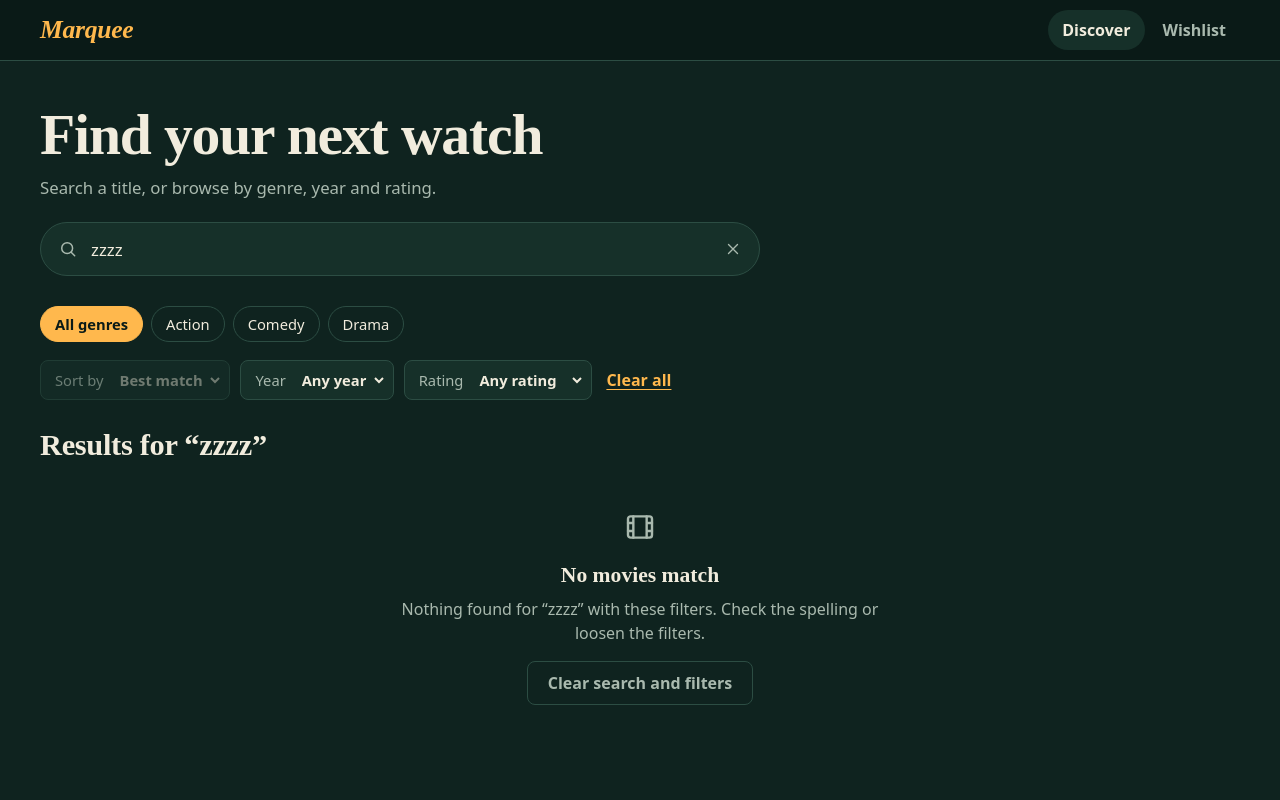
Browse page › shows an empty state with a way out
Expected: the heading "No movies match" is shown, [561,563,719,587]
Click the button "Clear search and filters" at (640, 683), box [527,661,753,705]
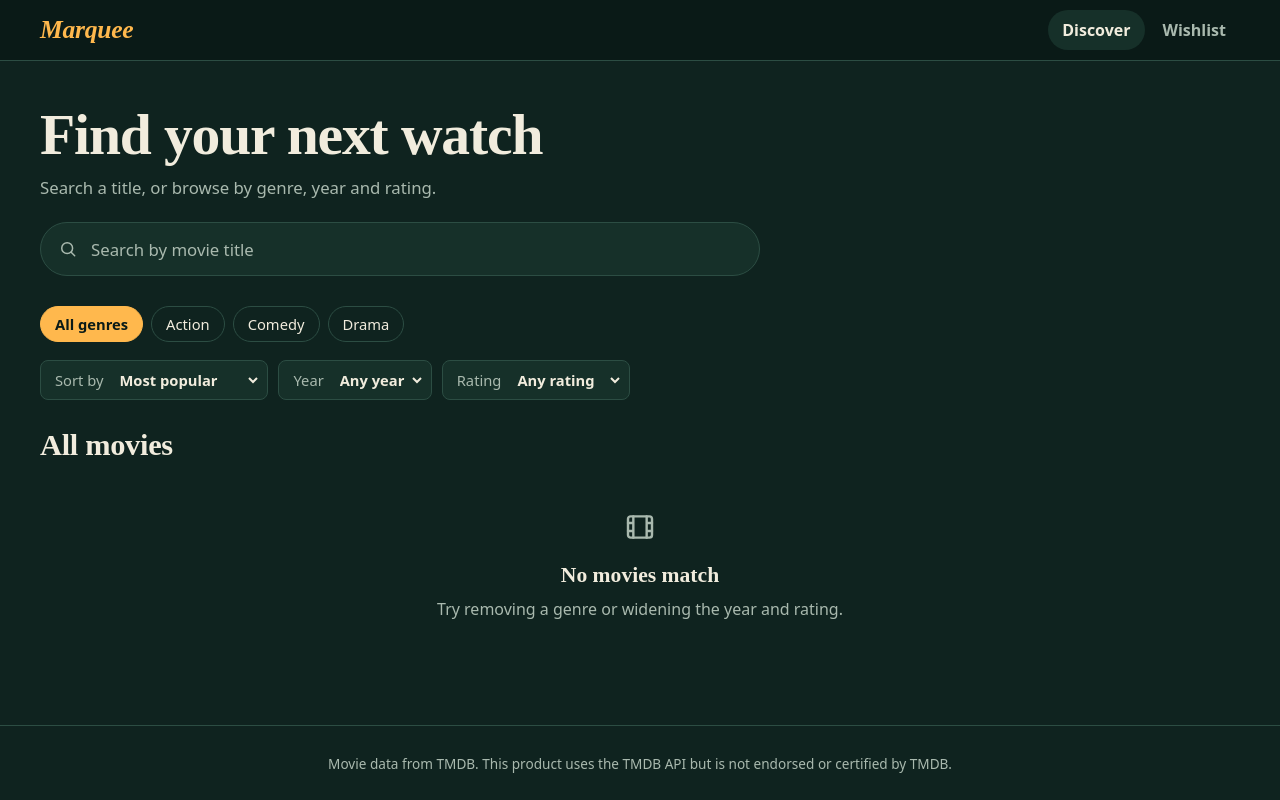
Result: the search field is empty at [40,222,760,276]
